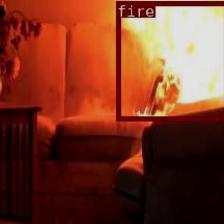fire: (115, 0, 224, 120)
